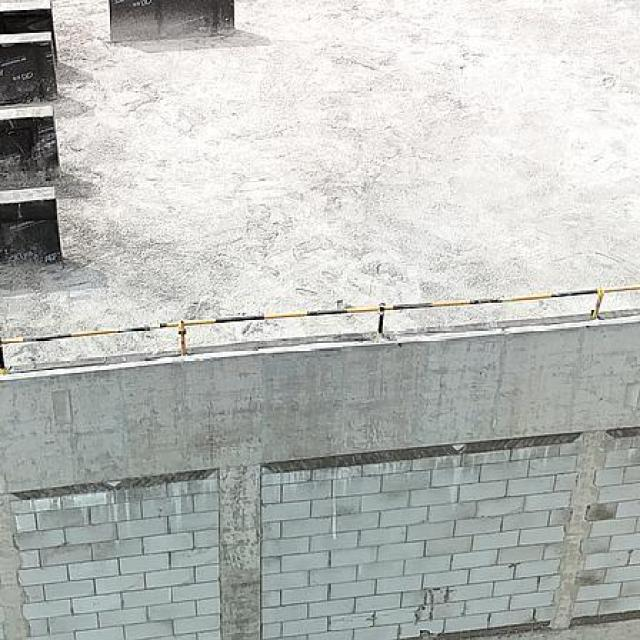edge_guardrail: (0, 283, 640, 377)
